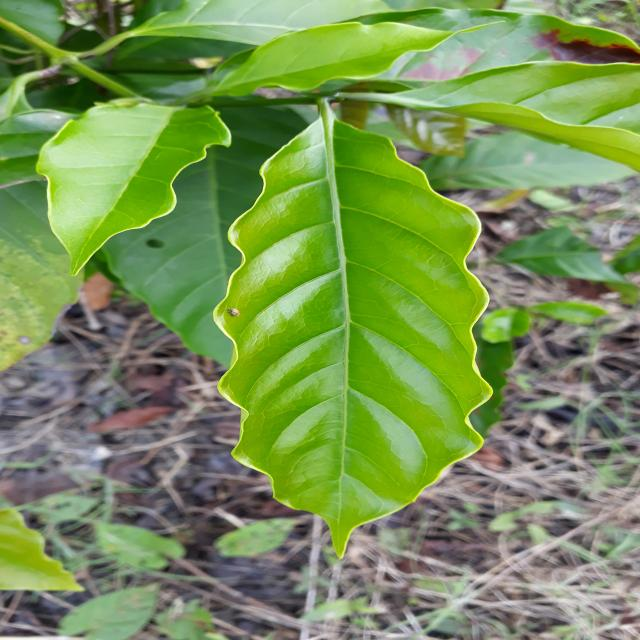Sanas: (209, 101, 509, 541)
